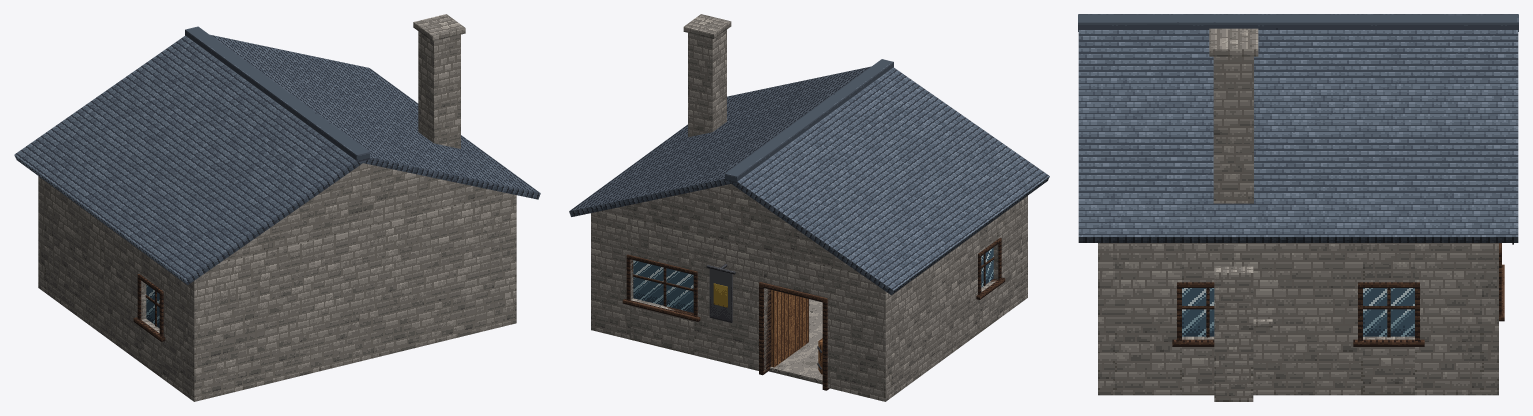
The model's file is blacksmith.glb.
3 views of the same model, side by side, from view 1: azimuth 30°, elevation 25°; view 2: azimuth 150°, elevation 25°; view 3: azimuth 270°, elevation 25° (orthographic). The views are drawn at different scales.
Parts seen in each view (by area): view 1: blacksmith; view 2: blacksmith; view 3: blacksmith.
Boxes of the visible parts, bbox=[...] form: blacksmith: bbox=[14, 14, 540, 401]; blacksmith: bbox=[569, 14, 1049, 401]; blacksmith: bbox=[1078, 14, 1518, 401].
Bounding box in the file's own units: 8.16 × 5.91 × 6.82.
15 materials, 15 textured.
